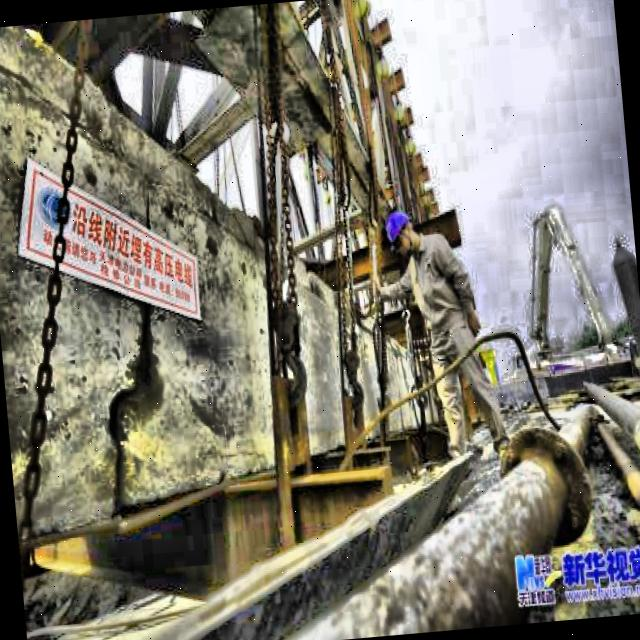helmet: (383, 205, 421, 258)
